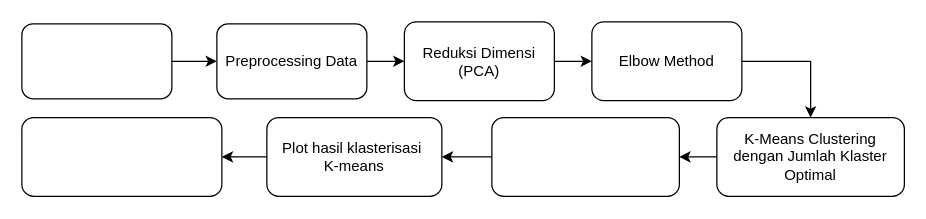
The diagram is 926 pixels wide and 219 high, and some of its shapes have lost their labels. The centre of each missing label's shape, as x and y in pixels:
"Evaluasi Model dengan Metric Unsupervised Learning" belongs at pixel 585 156.
"Input Data" belongs at pixel 96 60.
"Interpretasi hasil & EDA (Exploratory data analysis)" belongs at pixel 121 156.
